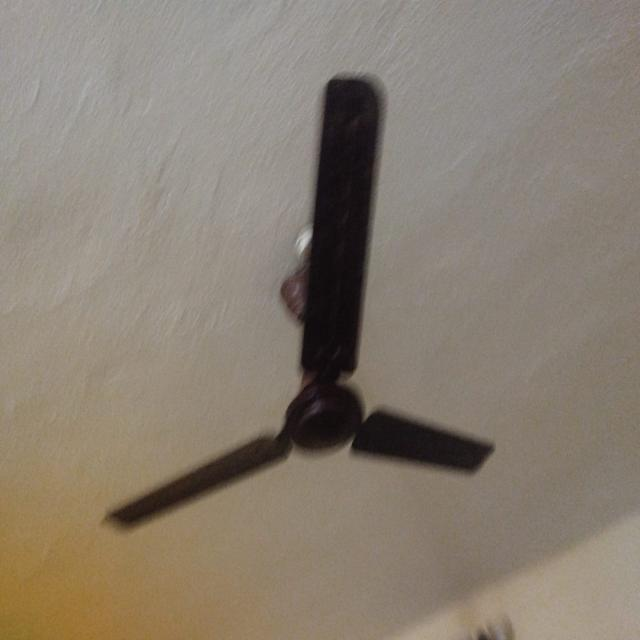fan_off: (102, 72, 494, 529)
